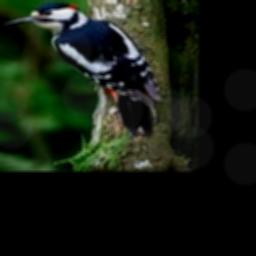Woodpecker: (4, 2, 163, 136)
